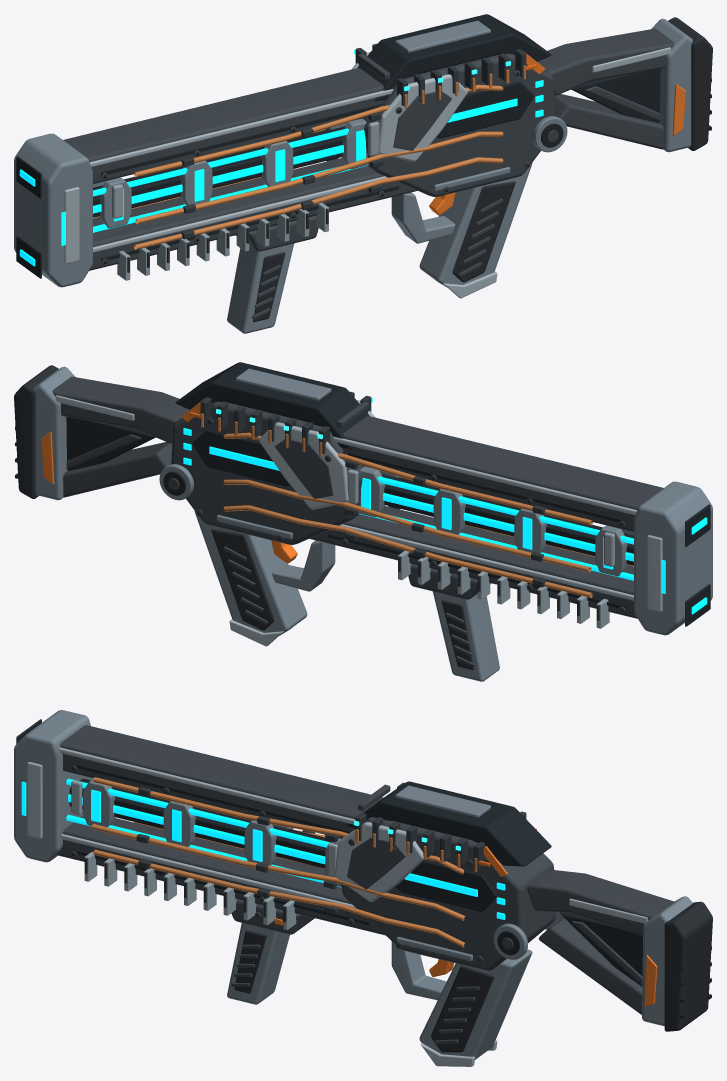
Rendered from railgun.glb.
3 views of the same model, one above another, from view 1: azimuth 30°, elevation 25°; view 2: azimuth 150°, elevation 25°; view 3: azimuth 330°, elevation 25° (orthographic).
Parts seen in each view (by area): view 1: Graphite ceramic armor, Machined edge alloy, Recessed black alloy, Satin titanium, Textured black grip, Cyan accelerator emission, Copper heat pipe -1/2, Copper heat pipe -1/1, Copper heat pipe -1/0, Safety orange, Dark fasteners; view 2: Graphite ceramic armor, Machined edge alloy, Recessed black alloy, Satin titanium, Textured black grip, Cyan accelerator emission, Copper heat pipe 1/2, Copper heat pipe 1/1, Copper heat pipe 1/0, Safety orange, Dark fasteners; view 3: Graphite ceramic armor, Machined edge alloy, Recessed black alloy, Textured black grip, Satin titanium, Cyan accelerator emission, Copper heat pipe -1/2, Copper heat pipe -1/1, Copper heat pipe -1/0, Safety orange.
Part boxes in pixels (x1,y1,x2,y2): Graphite ceramic armor: (63,28,674,319); Machined edge alloy: (14,18,692,333); Recessed black alloy: (16,14,711,278); Satin titanium: (64,47,671,298); Textured black grip: (253,17,712,321); Cyan accelerator emission: (19,80,543,266); Copper heat pipe -1/2: (134,157,503,249); Copper heat pipe -1/1: (135,131,503,224); Copper heat pipe -1/0: (134,84,503,177); Safety orange: (309,51,685,232); Dark fasteners: (101,70,558,265); Graphite ceramic armor: (52,376,663,667); Machined edge alloy: (34,366,712,681); Recessed black alloy: (15,362,710,626); Satin titanium: (55,395,662,646); Textured black grip: (14,365,473,669); Cyan accelerator emission: (183,428,707,614); Copper heat pipe 1/2: (223,505,592,597); Copper heat pipe 1/1: (223,479,591,572); Copper heat pipe 1/0: (223,432,592,525); Safety orange: (41,399,417,580); Dark fasteners: (168,418,625,613); Graphite ceramic armor: (57,725,674,1044); Machined edge alloy: (14,710,692,1059); Recessed black alloy: (16,719,711,1018); Textured black grip: (234,901,712,1052); Satin titanium: (27,747,647,1066); Cyan accelerator emission: (21,778,505,919); Copper heat pipe -1/2: (93,849,464,947); Copper heat pipe -1/1: (92,824,465,920); Copper heat pipe -1/0: (93,777,463,874); Safety orange: (274,846,657,1006).
Size of the model in its own units: 1.31 by 0.4773 by 0.1732.
